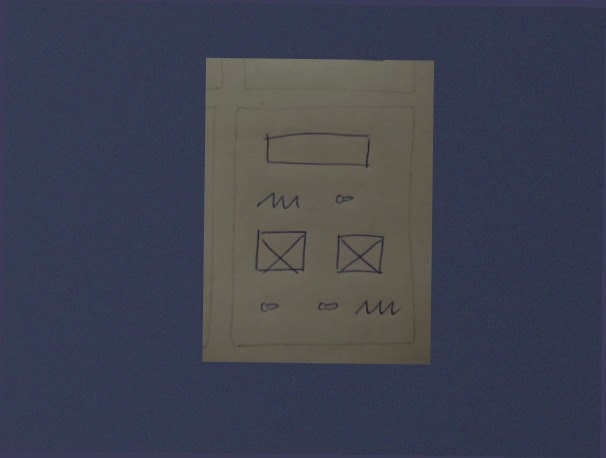image: (250, 223, 313, 278), (332, 228, 390, 279)
switch: (313, 295, 344, 314), (331, 189, 359, 208), (257, 298, 285, 315)
text: (353, 293, 405, 323), (253, 187, 306, 214)
text_input: (259, 127, 375, 172)
